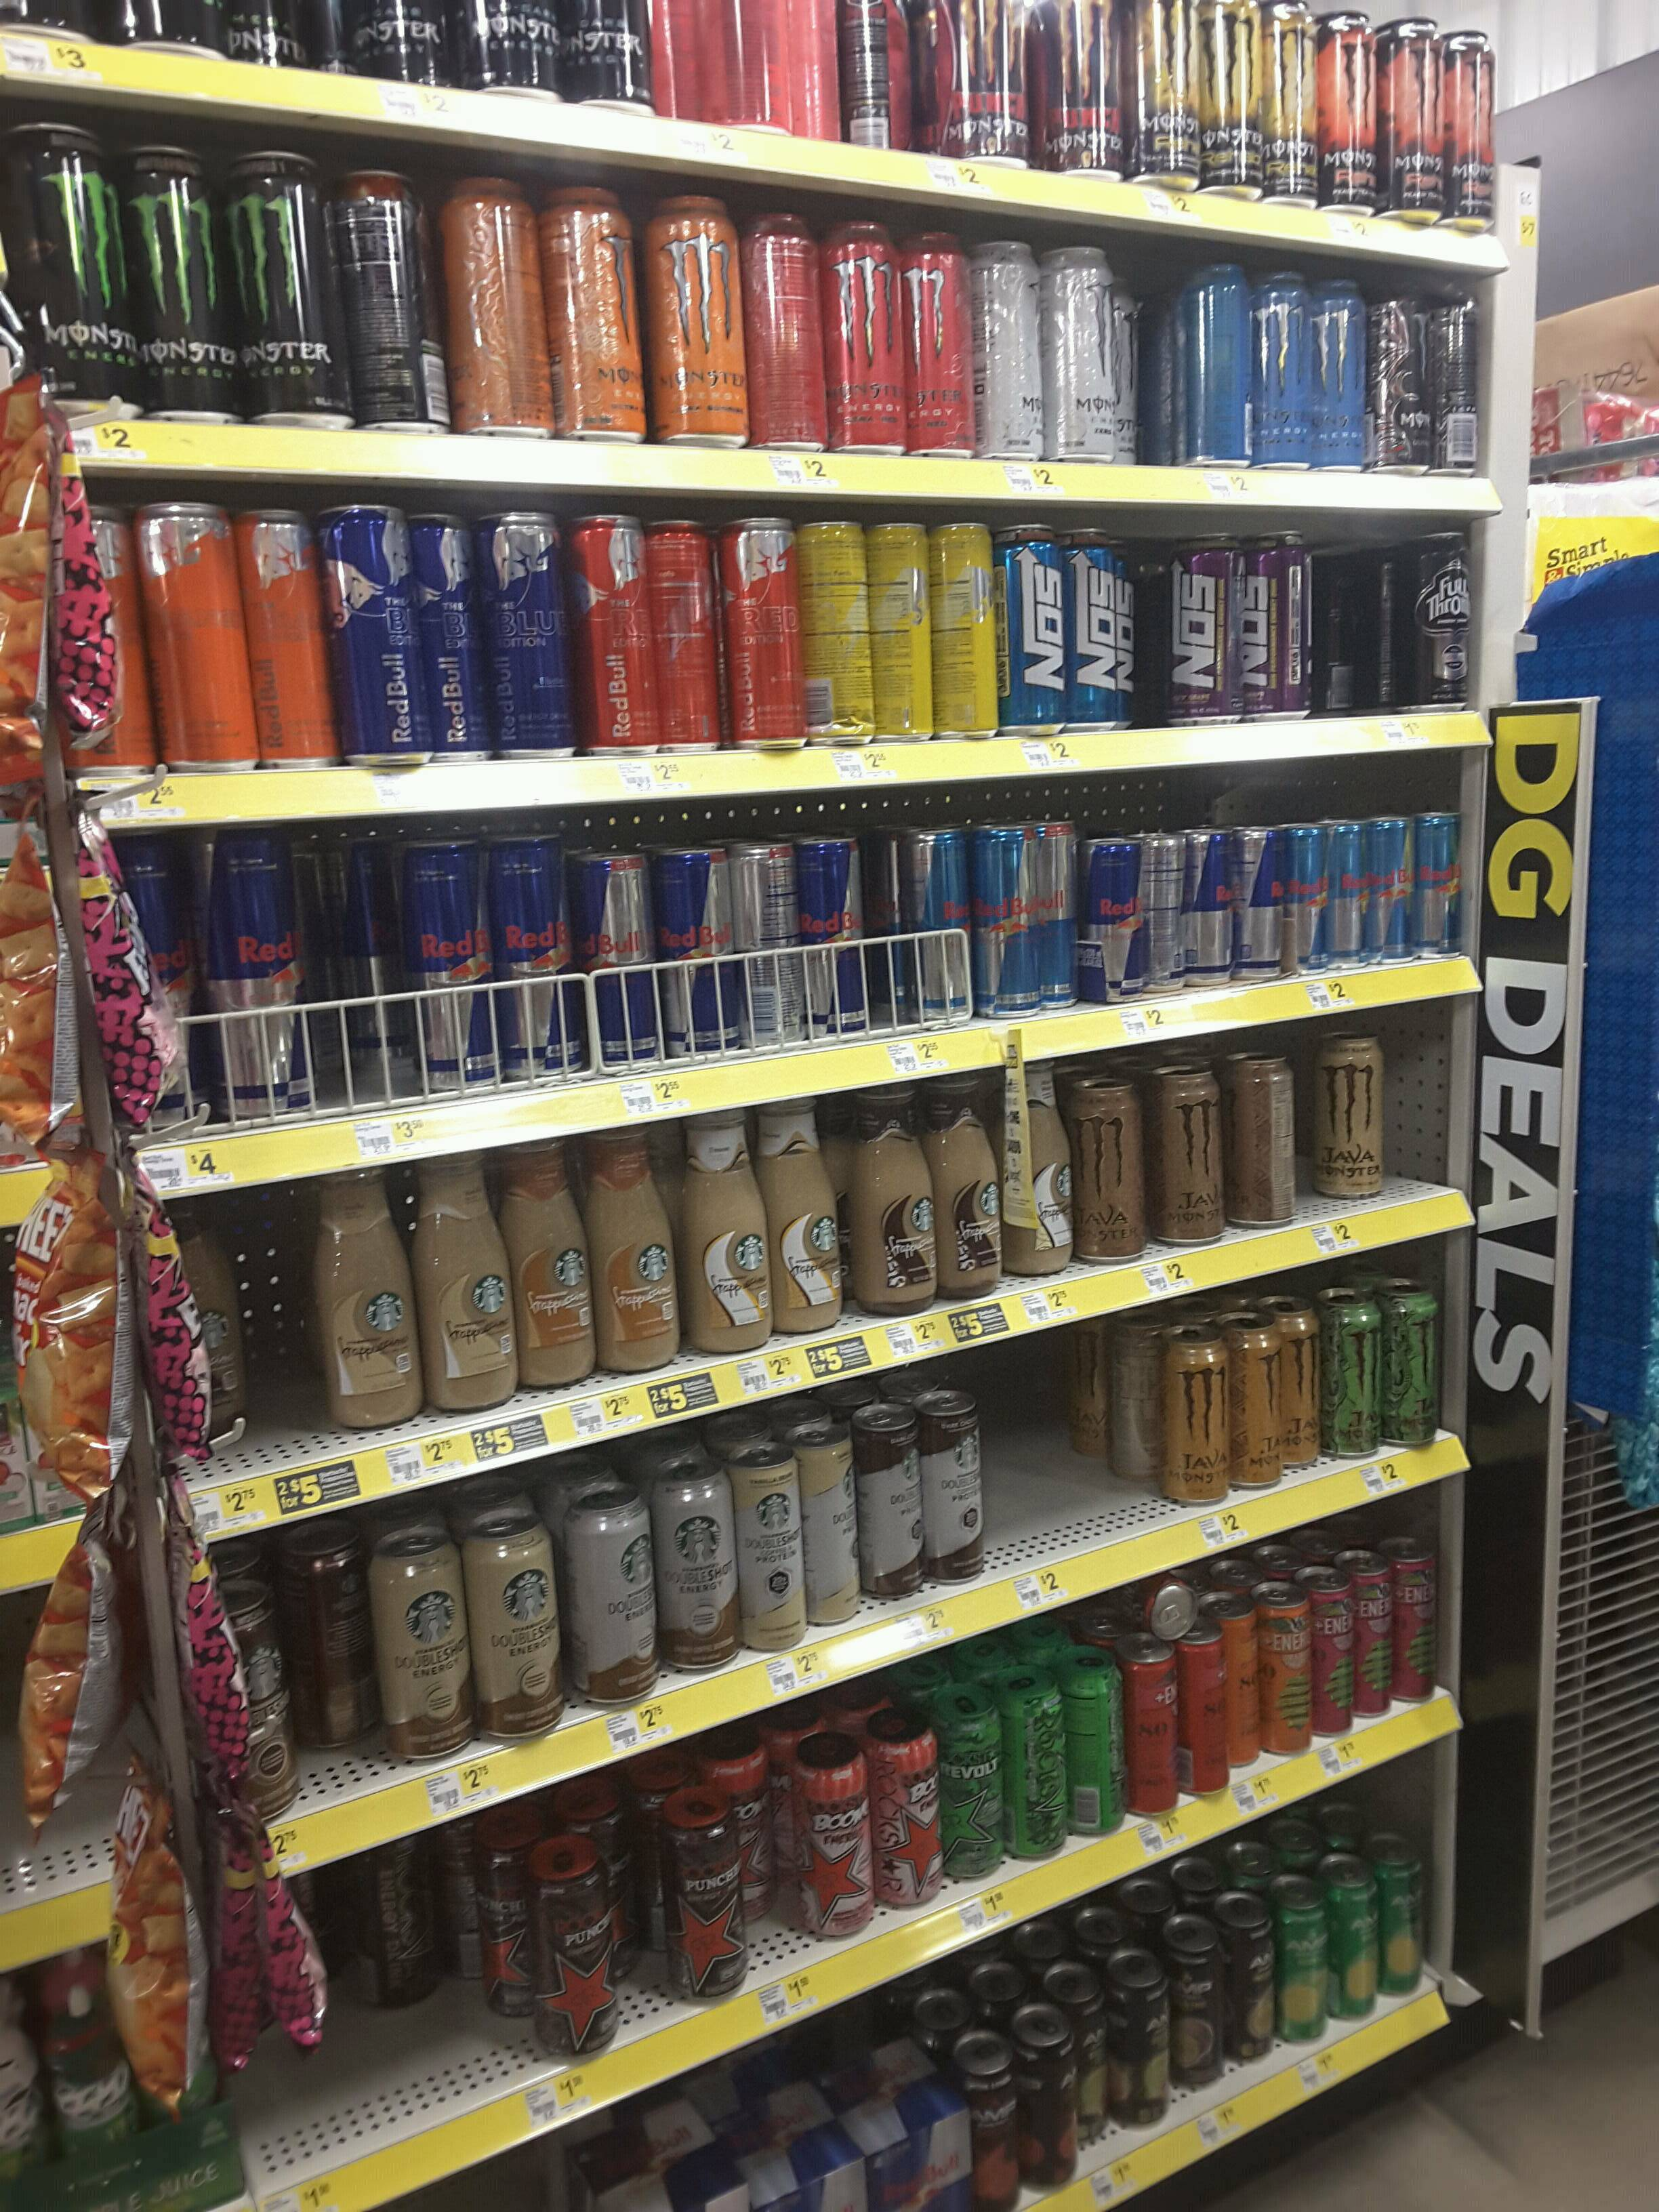Misplacement: (295, 1815, 526, 2137), (171, 1170, 322, 1505), (213, 1547, 399, 1801)
Out-of-stock: (985, 1313, 1171, 1583), (1305, 542, 1429, 721)
